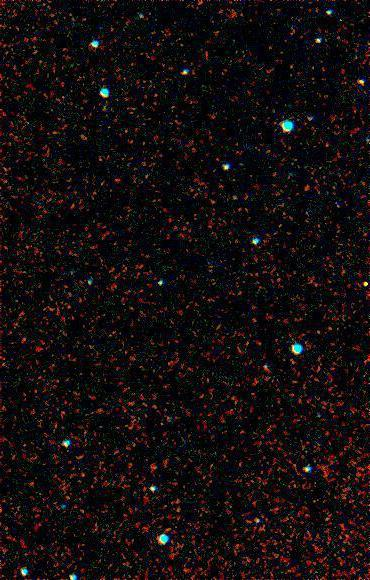star: (343, 269, 370, 299)
